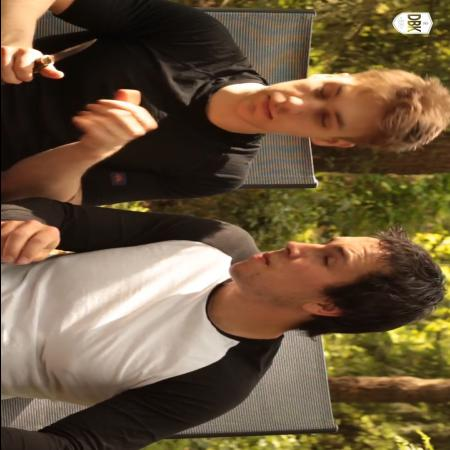long weapon: (1, 32, 108, 80)
